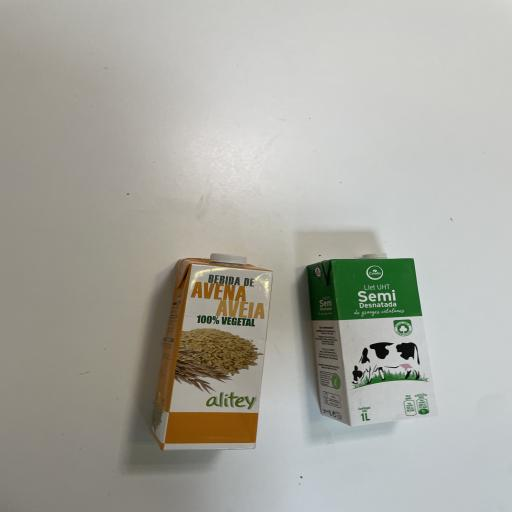milk: (284, 250, 451, 438)
oat_milk: (133, 252, 297, 447)
